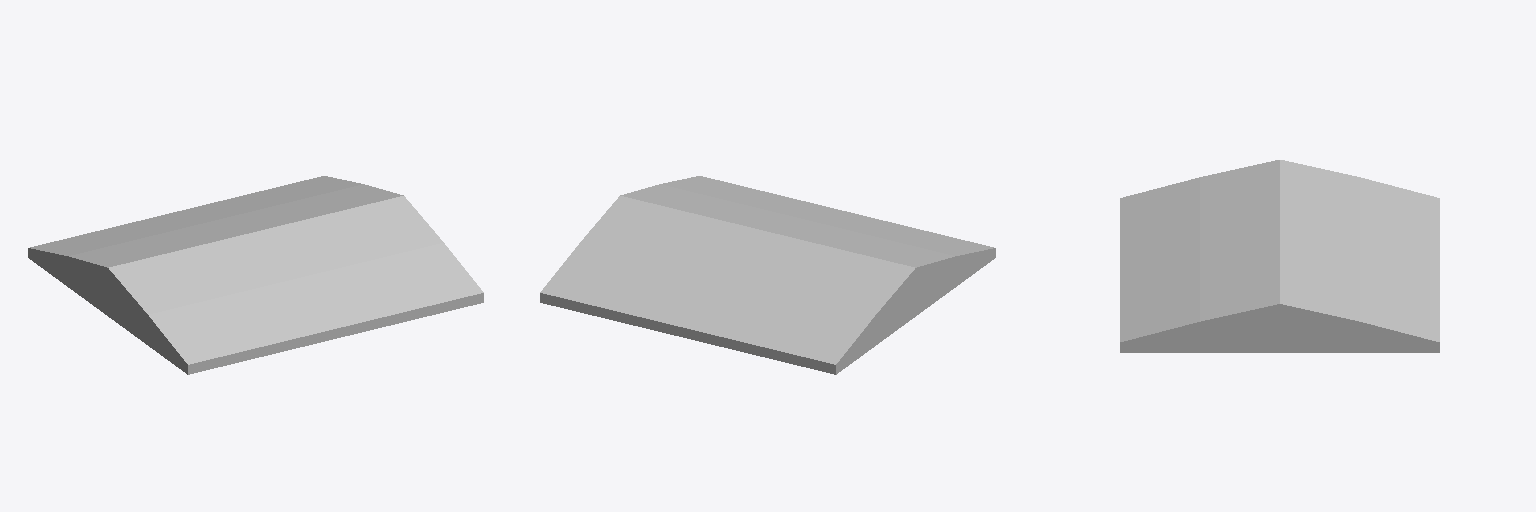
The model's file is house21.obj.
The picture shows the model from 3 angles: view 1: azimuth 30°, elevation 25°; view 2: azimuth 150°, elevation 25°; view 3: azimuth 270°, elevation 25°; orthographic projection.
Visible parts, largest first — view 1: 立方体.022; view 2: 立方体.022; view 3: 立方体.022.
Boxes of the visible parts, box(x1,y1,x2,y2) form: 立方体.022: box(28, 176, 483, 374); 立方体.022: box(540, 176, 995, 374); 立方体.022: box(1120, 160, 1439, 352).
Bounding box in the file's own units: 62 × 9.74 × 58.